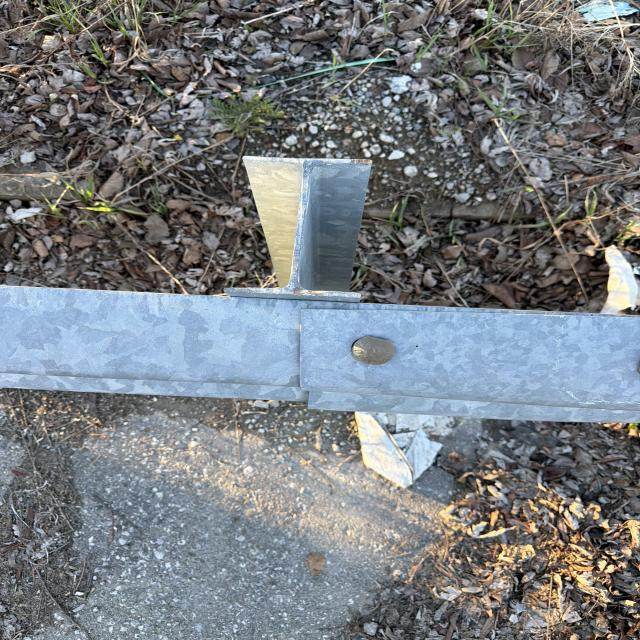Guard rail: (11, 182, 615, 408)
